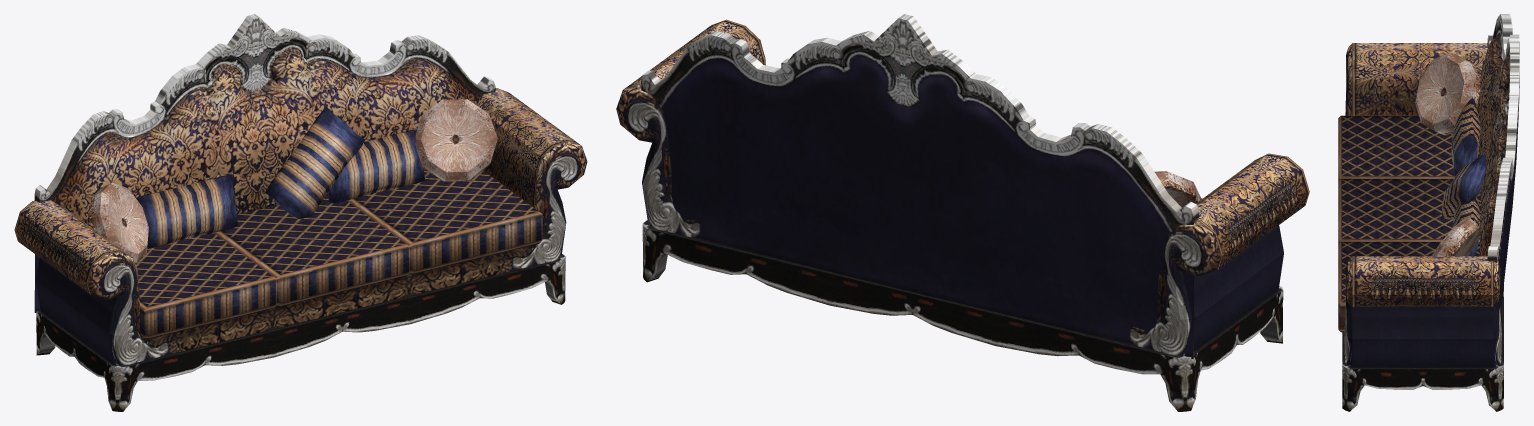
Rendered from furni_0201210.FBX.
3 views of the same model, side by side, from view 1: azimuth 30°, elevation 25°; view 2: azimuth 150°, elevation 25°; view 3: azimuth 270°, elevation 25° (orthographic). The views are drawn at different scales.
Visible parts, largest first — view 1: furni_0201210; view 2: furni_0201210; view 3: furni_0201210.
Part boxes in pixels (x1,y1,x2,y2): furni_0201210: [14, 14, 587, 411]; furni_0201210: [616, 14, 1309, 411]; furni_0201210: [1338, 14, 1519, 411].
Size of the model in its own units: 239 by 126 by 77.57.
1 material, 1 textured.
